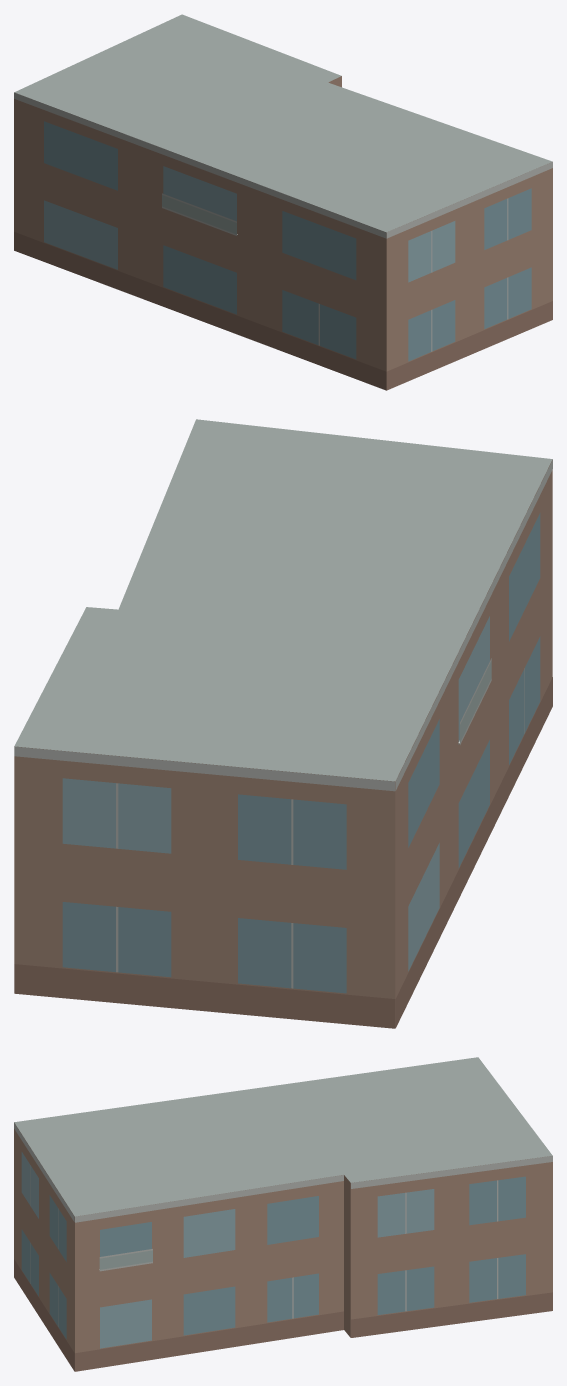
File: survey-upis-32981766.glb
3 views of the same model, one above another, from view 1: azimuth 30°, elevation 25°; view 2: azimuth 150°, elevation 25°; view 3: azimuth 270°, elevation 25° (orthographic). The views are drawn at different scales.
Visible parts, largest first — view 1: survey-upis-32981766.tmp; view 2: survey-upis-32981766.tmp; view 3: survey-upis-32981766.tmp.
Boxes of the visible parts, bbox=[...] form: survey-upis-32981766.tmp: bbox=[14, 14, 552, 390]; survey-upis-32981766.tmp: bbox=[14, 419, 552, 1028]; survey-upis-32981766.tmp: bbox=[14, 1057, 552, 1371].
Bounding box in the file's own units: 13.46 × 6.1 × 19.2.
